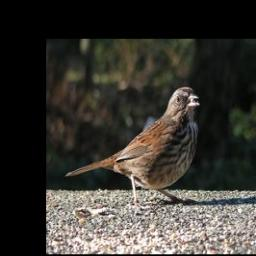Sparrow: (64, 83, 203, 211)
